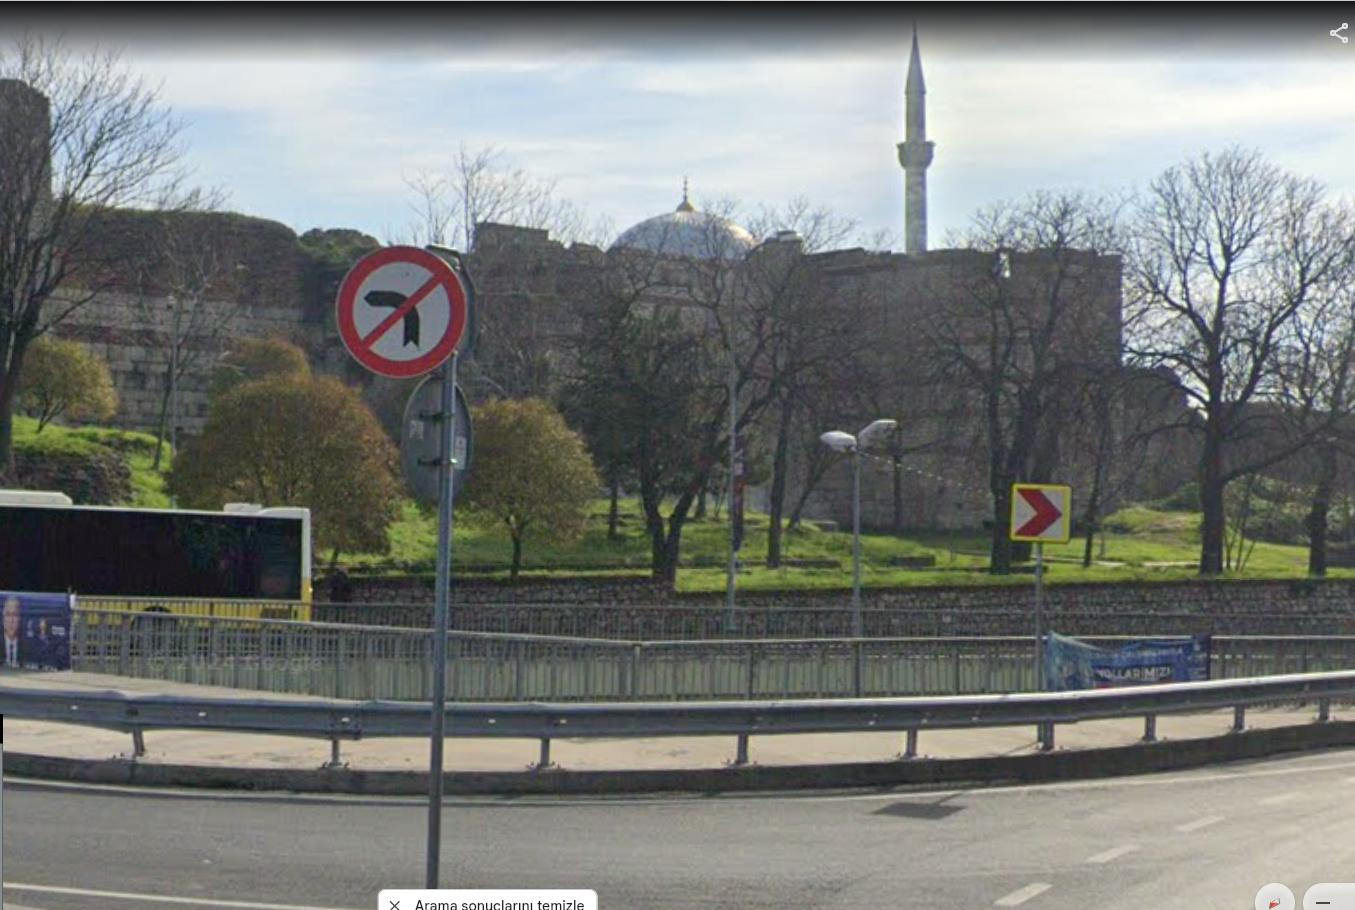leftturnsareforbidden: (337, 244, 467, 373)
